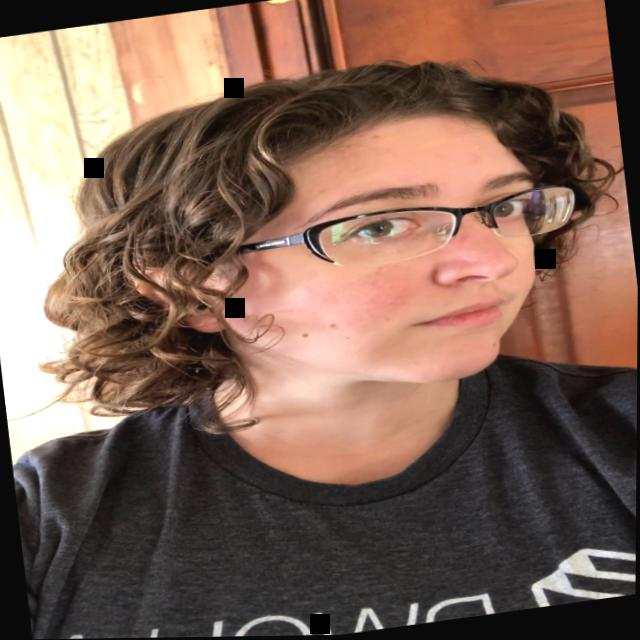NO-Mask: (192, 106, 558, 415)
